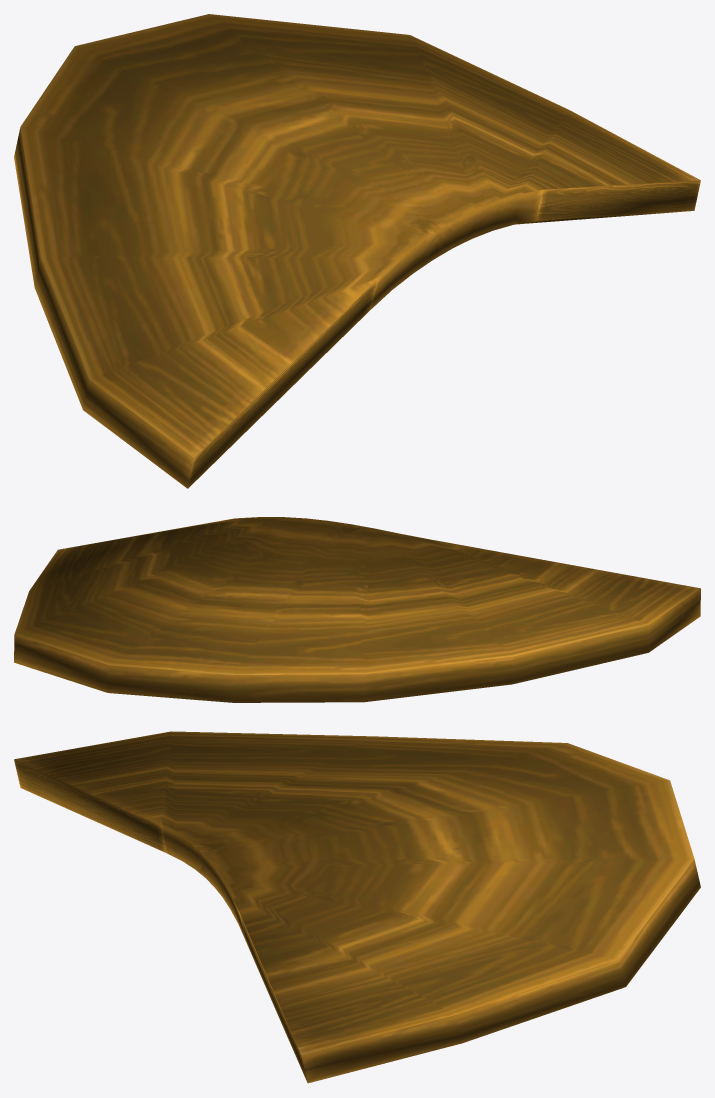
Rendered from HTOWN01_BAGROW2ROOF.fbx.
3 views of the same model, one above another, from view 1: azimuth 30°, elevation 25°; view 2: azimuth 150°, elevation 25°; view 3: azimuth 270°, elevation 25° (orthographic). The views are drawn at different scales.
Visible parts, largest first — view 1: HTOWN01_BAGROW2ROOF; view 2: HTOWN01_BAGROW2ROOF; view 3: HTOWN01_BAGROW2ROOF.
Part boxes in pixels (x1,y1,x2,y2): HTOWN01_BAGROW2ROOF: (14,14,700,488); HTOWN01_BAGROW2ROOF: (14,517,700,702); HTOWN01_BAGROW2ROOF: (14,731,700,1083).
Size of the model in its own units: 48969 by 8566 by 46250.
1 material, 1 textured.
